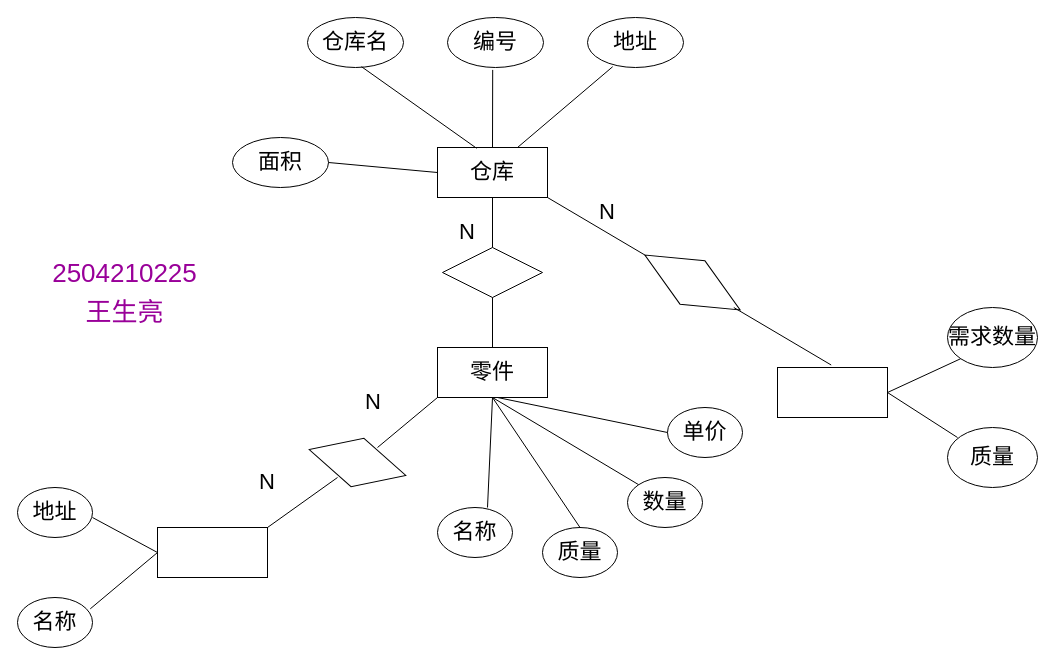
Some shapes in this 1055 by 665 pixel diagram are drawn without their labels. The shapes that lost their labels are listed below. From the top down, each one's centre as x and y in pixels, then its label:
At point (492, 272): "存储".
At point (692, 282): "提供".
At point (832, 392): "项目工程".
At point (357, 462): "供应".
At point (212, 552): "供应商".
